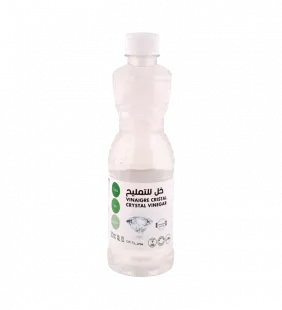TOUS LES JOURS: (99, 27, 181, 285)
